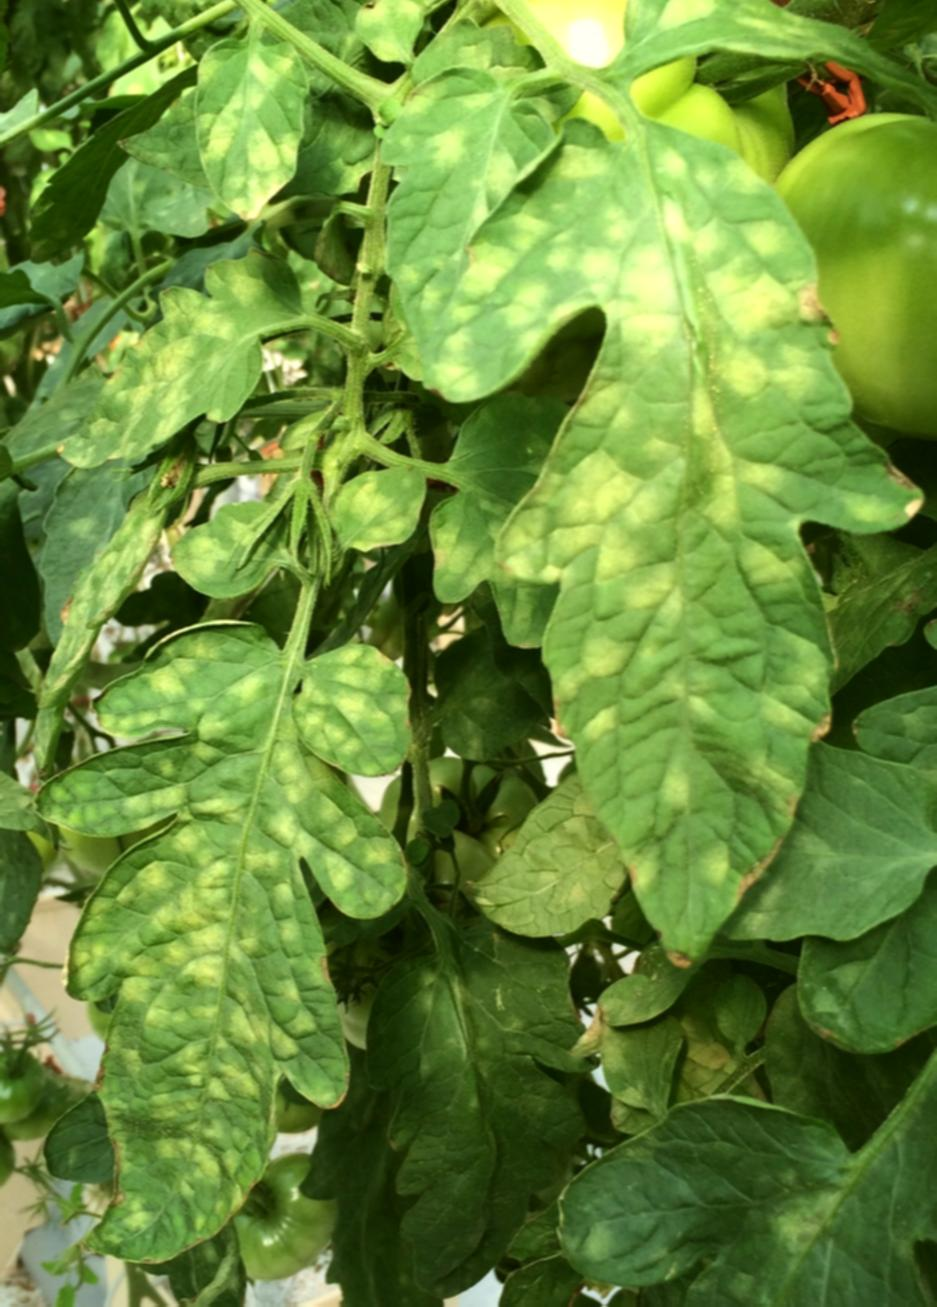Tomato mold leaf: (454, 127, 851, 960), (38, 619, 408, 1273), (53, 253, 342, 480), (379, 51, 572, 280), (473, 738, 640, 945), (190, 35, 305, 239), (624, 0, 871, 83), (325, 467, 435, 566), (165, 499, 271, 600)
